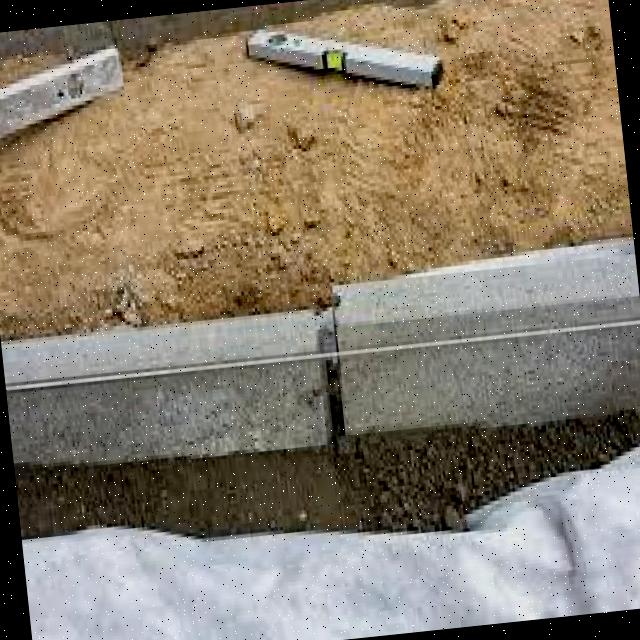curb: (9, 307, 331, 482), (332, 257, 640, 436)
